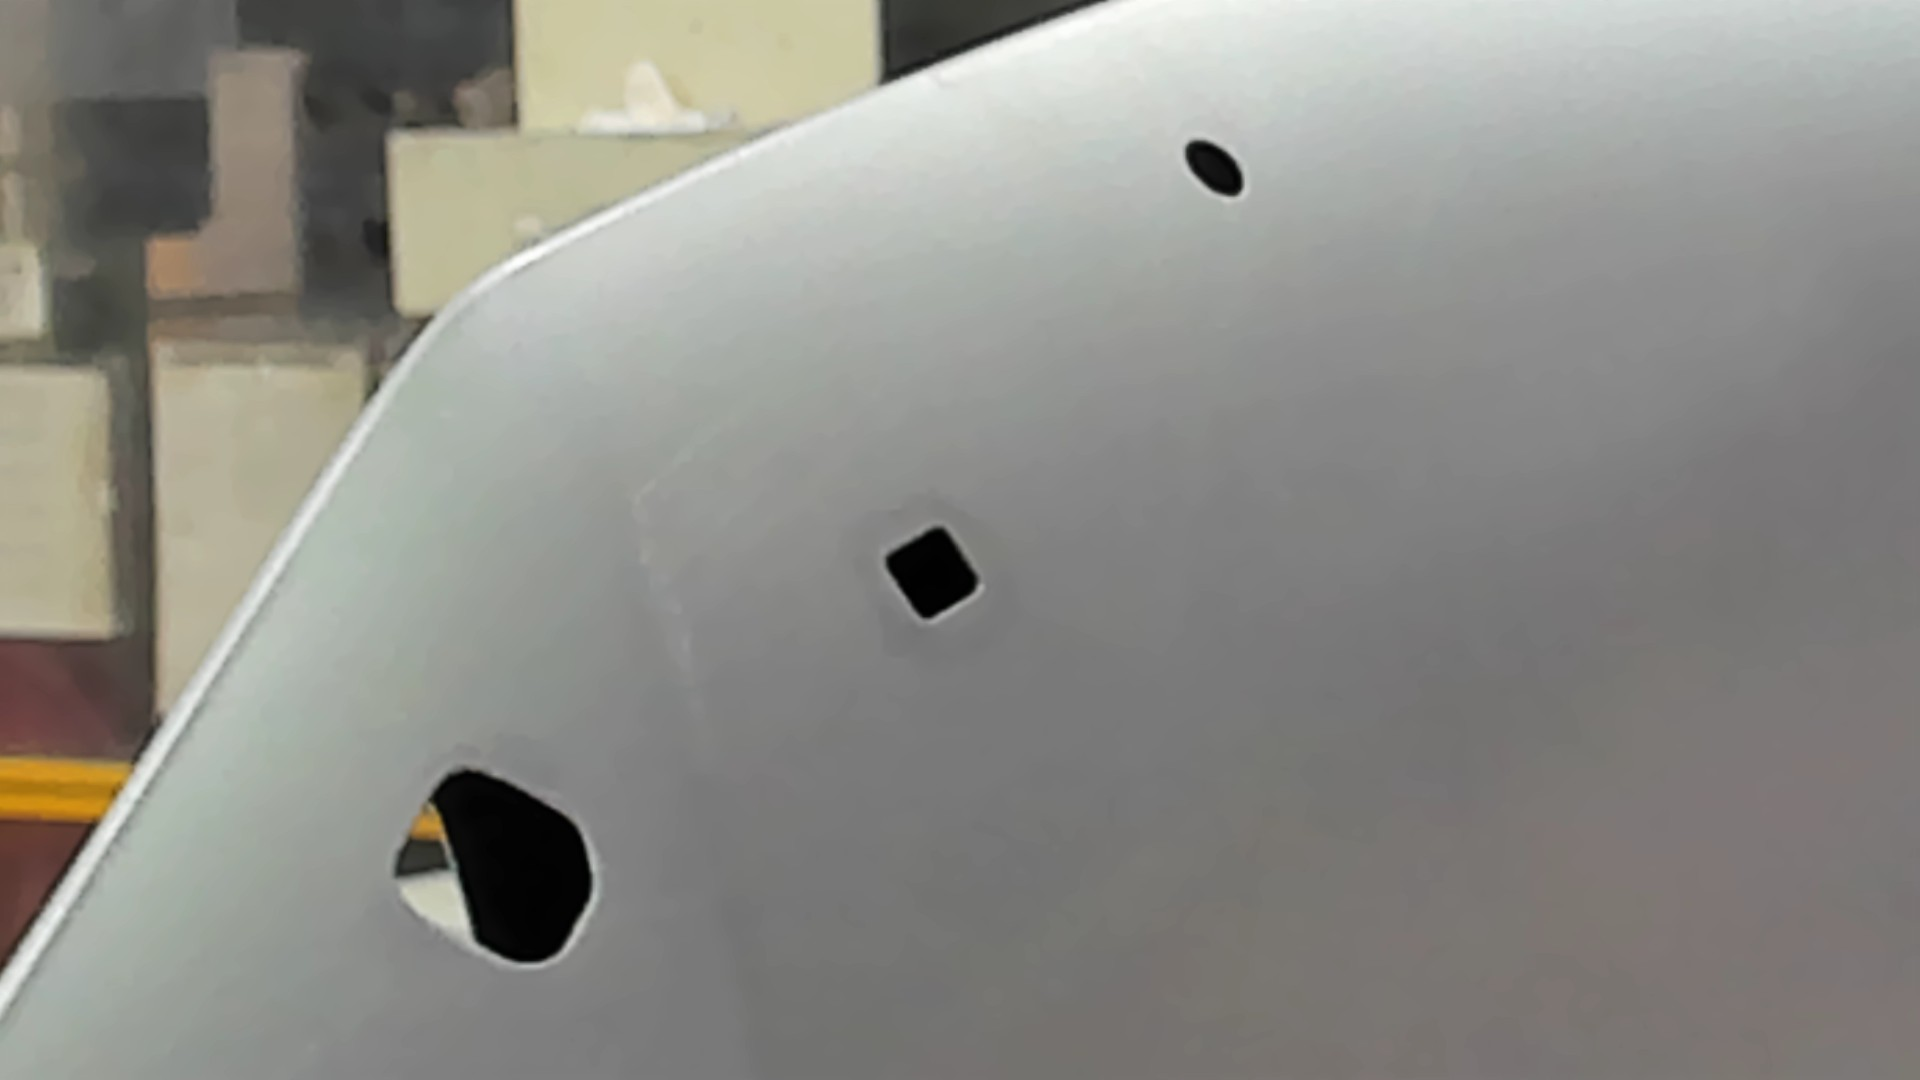chico: (1178, 137, 1251, 200)
grande: (386, 760, 605, 977)
mediano: (877, 518, 989, 632)
